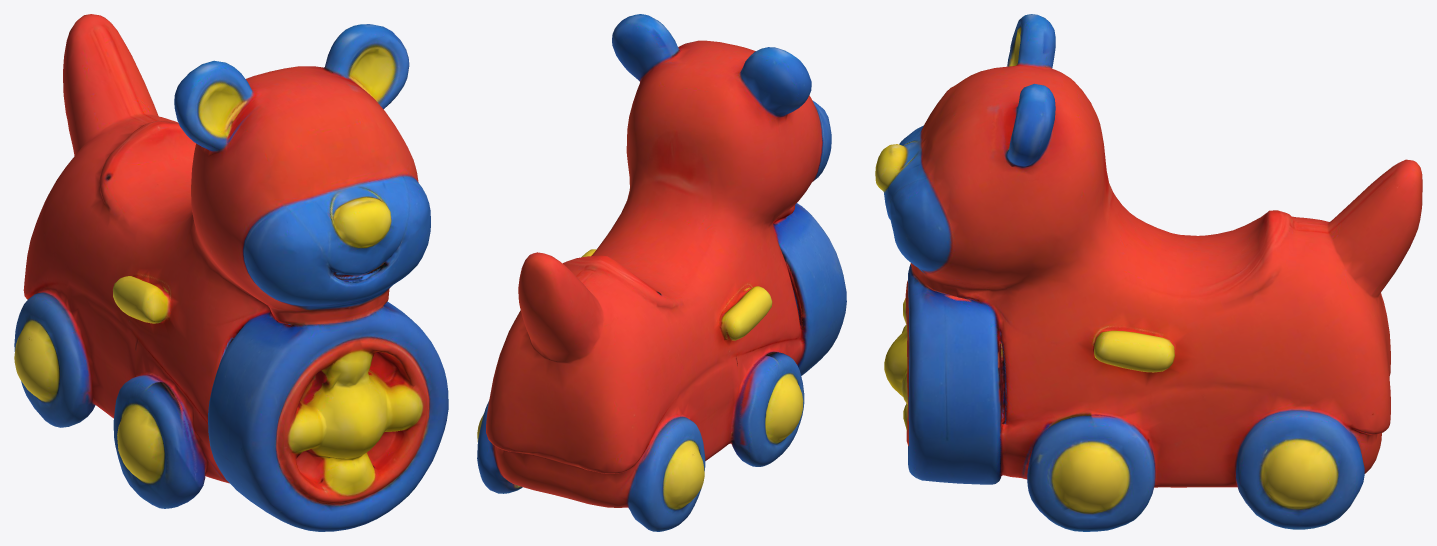
3 views of the same model, side by side, from view 1: azimuth 30°, elevation 25°; view 2: azimuth 150°, elevation 25°; view 3: azimuth 270°, elevation 25° (orthographic). The views are drawn at different scales.
Visible parts, largest first — view 1: Mesh1.0; view 2: Mesh1.0; view 3: Mesh1.0.
Part boxes in pixels (x1=…): Mesh1.0: x1=14, y1=14, x2=448, y2=531; Mesh1.0: x1=477, y1=14, x2=846, y2=531; Mesh1.0: x1=875, y1=14, x2=1422, y2=531.
Size of the model in its own units: 108 by 176 by 201.
1 material, 1 textured.
